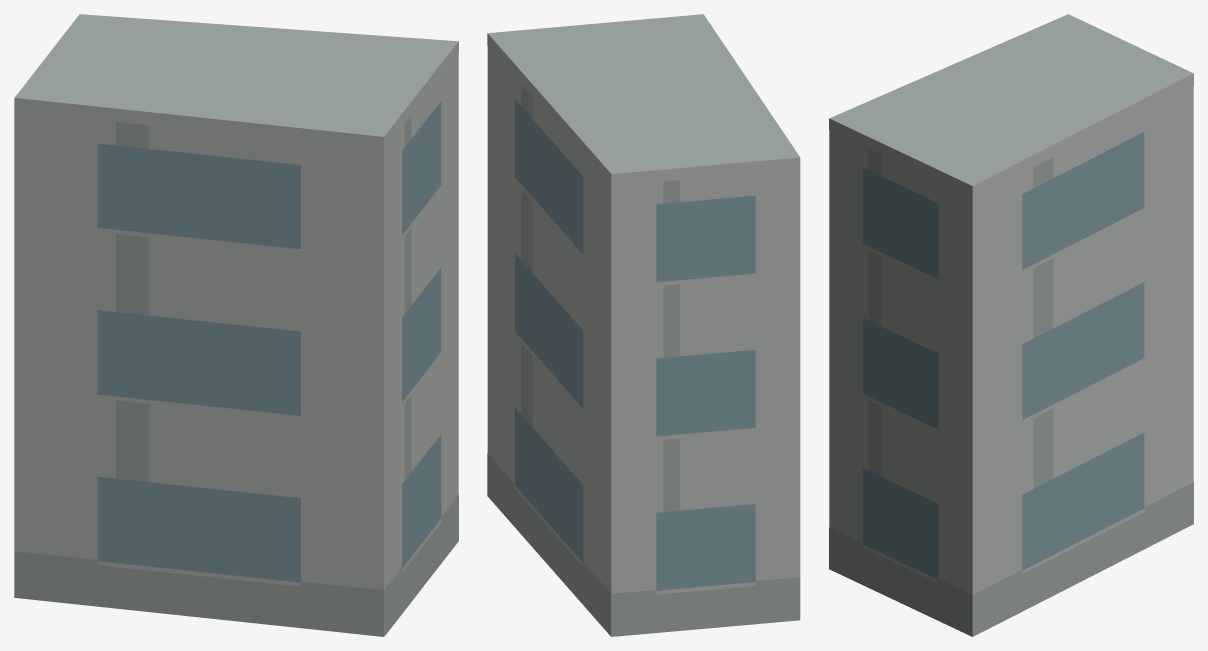
Rendered from survey-upis-32642293.glb.
The picture shows the model from 3 angles, left to right: view 1: azimuth 30°, elevation 25°; view 2: azimuth 150°, elevation 25°; view 3: azimuth 270°, elevation 25°; orthographic projection. The views are drawn at different scales.
Visible parts, largest first — view 1: survey-upis-32642293.tmp; view 2: survey-upis-32642293.tmp; view 3: survey-upis-32642293.tmp.
Part boxes in pixels (<box>): survey-upis-32642293.tmp: <box>14,14,458,636</box>; survey-upis-32642293.tmp: <box>487,14,800,636</box>; survey-upis-32642293.tmp: <box>829,14,1193,636</box>.
Bounding box in the file's own units: 7.5 × 9.15 × 6.71.
